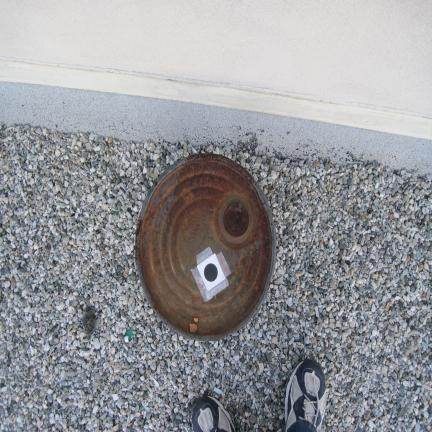karat: (135, 154, 275, 340)
